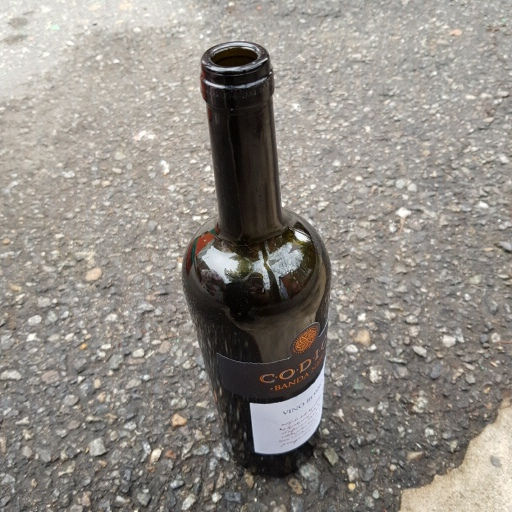Glass_2: (180, 39, 334, 479)
